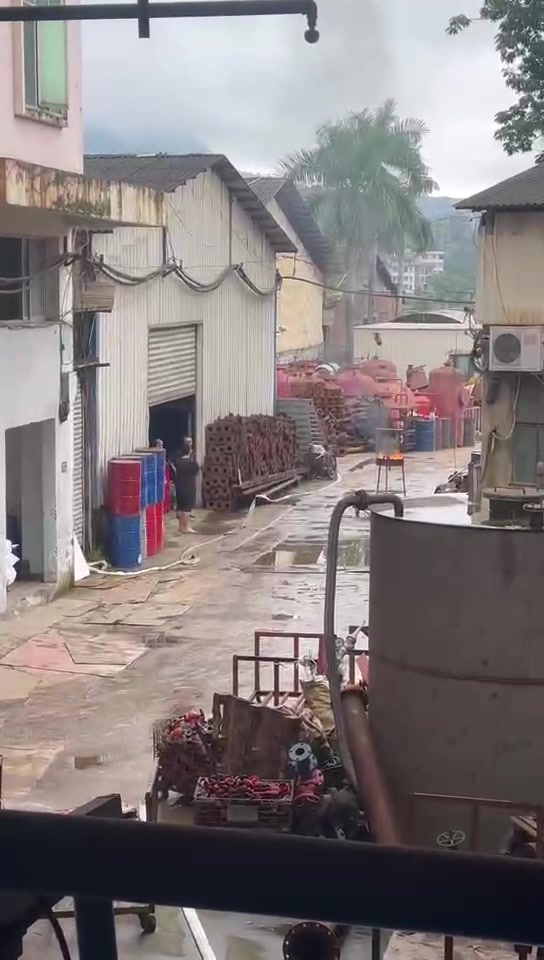fire: (382, 450, 403, 459)
